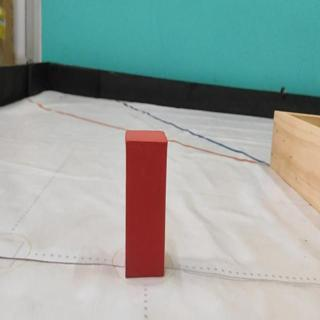redbox: (123, 130, 167, 275)
